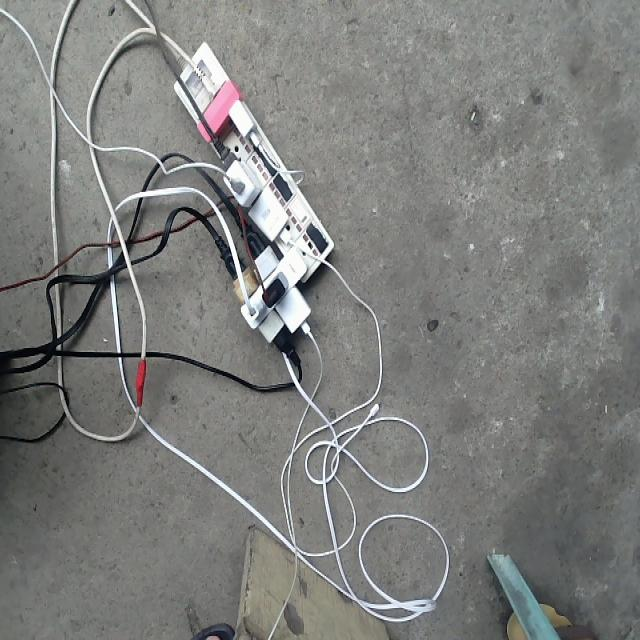-: (173, 41, 334, 355)
